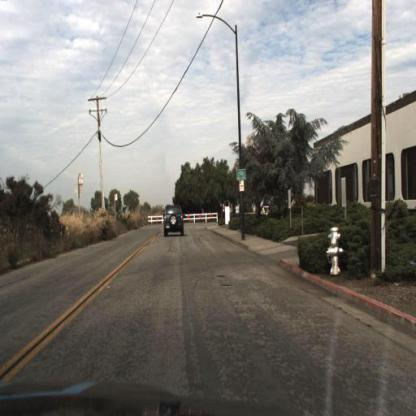car: (161, 205, 185, 237)
